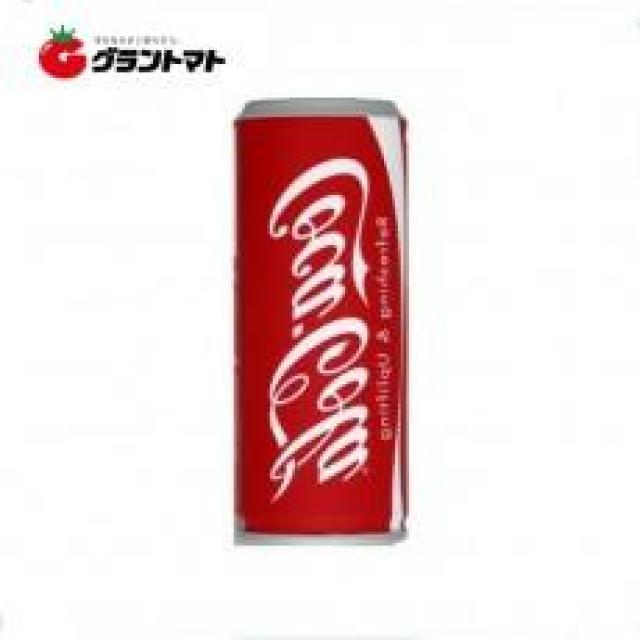coca-cola: (225, 89, 423, 554)
